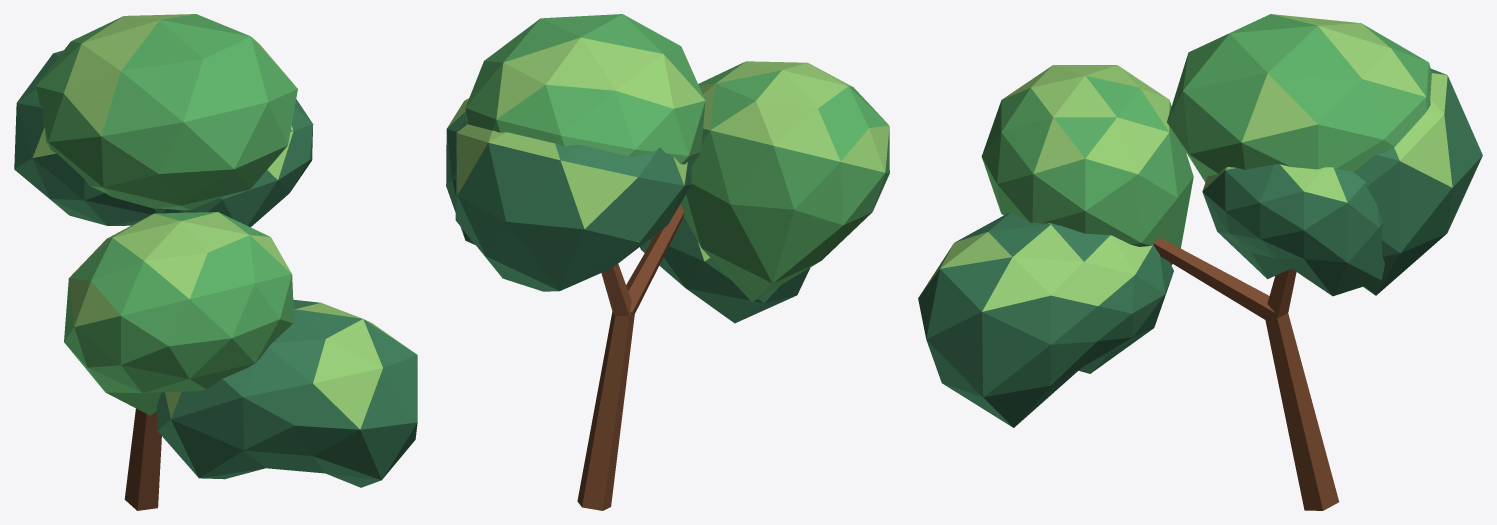
File: bush_broadleaf_c.glb
3 views of the same model, side by side, from view 1: azimuth 30°, elevation 25°; view 2: azimuth 150°, elevation 25°; view 3: azimuth 270°, elevation 25° (orthographic). The views are drawn at different scales.
Parts seen in each view (by area): view 1: BushBroadleafC; view 2: BushBroadleafC; view 3: BushBroadleafC.
Part boxes in pixels (x1,y1,x2,y2): BushBroadleafC: (14, 14, 417, 510); BushBroadleafC: (446, 14, 889, 510); BushBroadleafC: (918, 14, 1482, 510).
Bounding box in the file's own units: 1.42 × 1.93 × 2.02.
